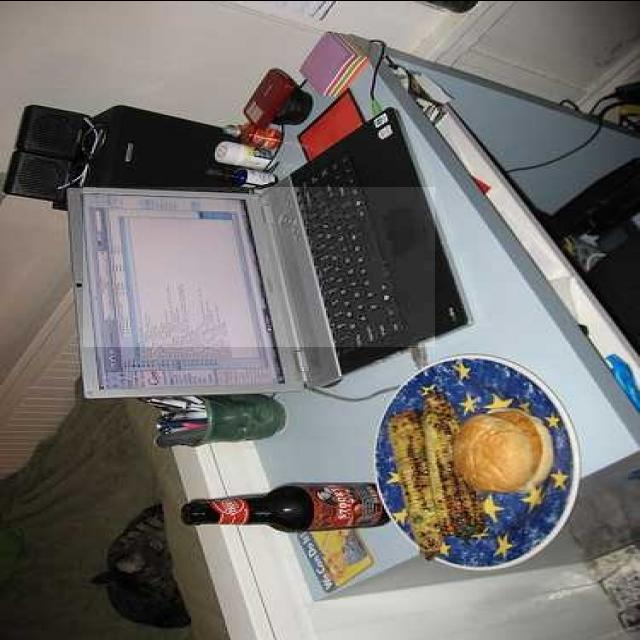-keyboard-: (83, 188, 435, 348)
